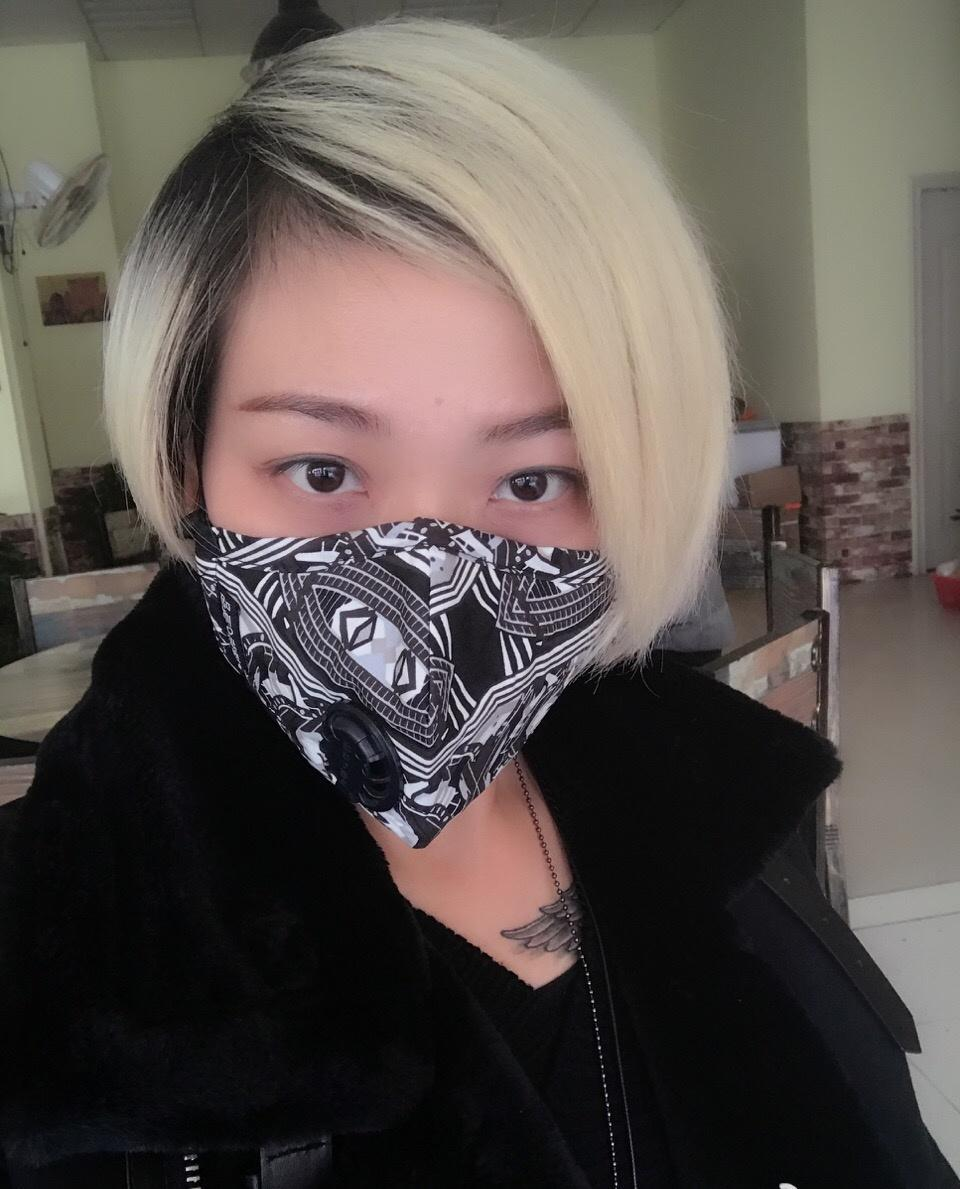OK: (147, 358, 628, 839)
